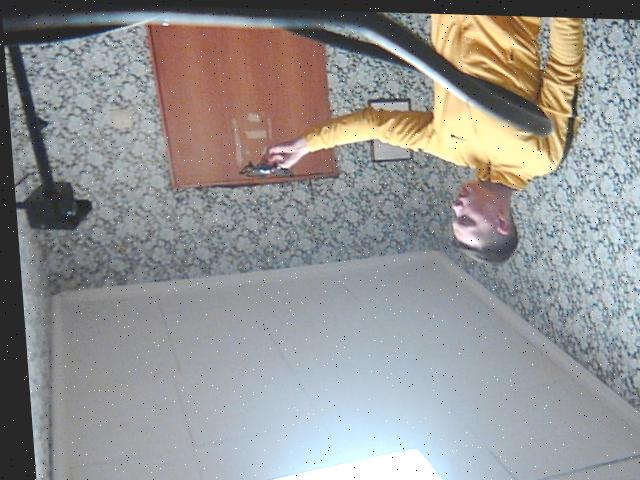drone: (232, 145, 303, 191)
